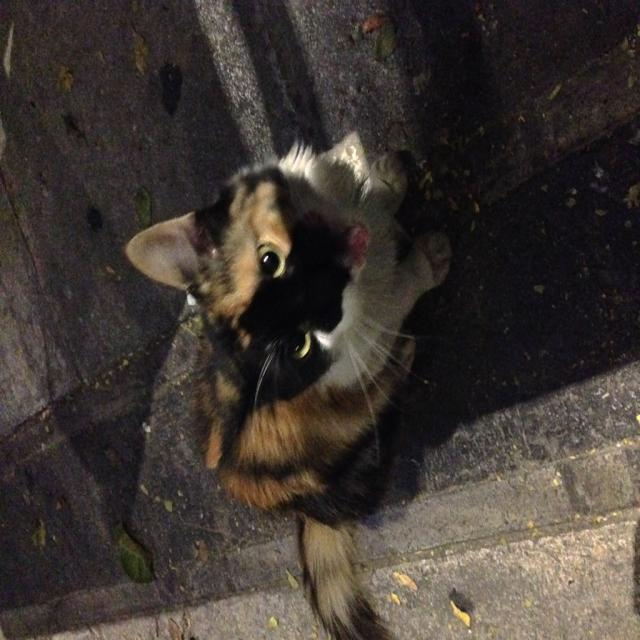Cat: (118, 136, 443, 638)
